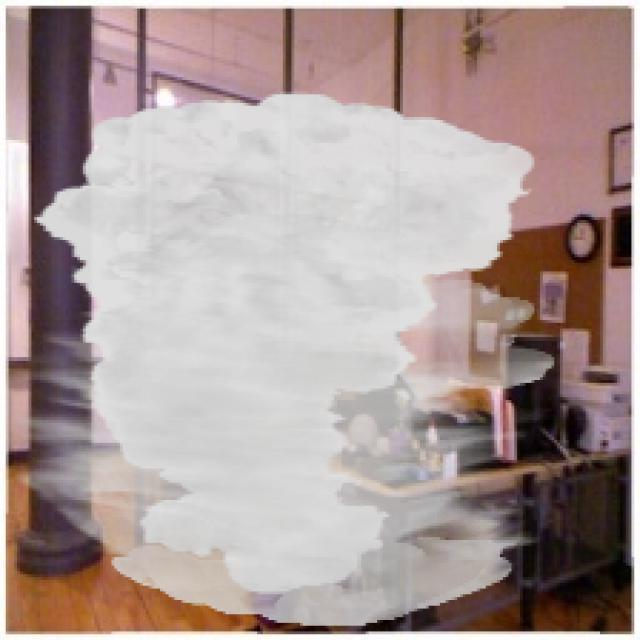Smoke: (12, 91, 554, 626)
